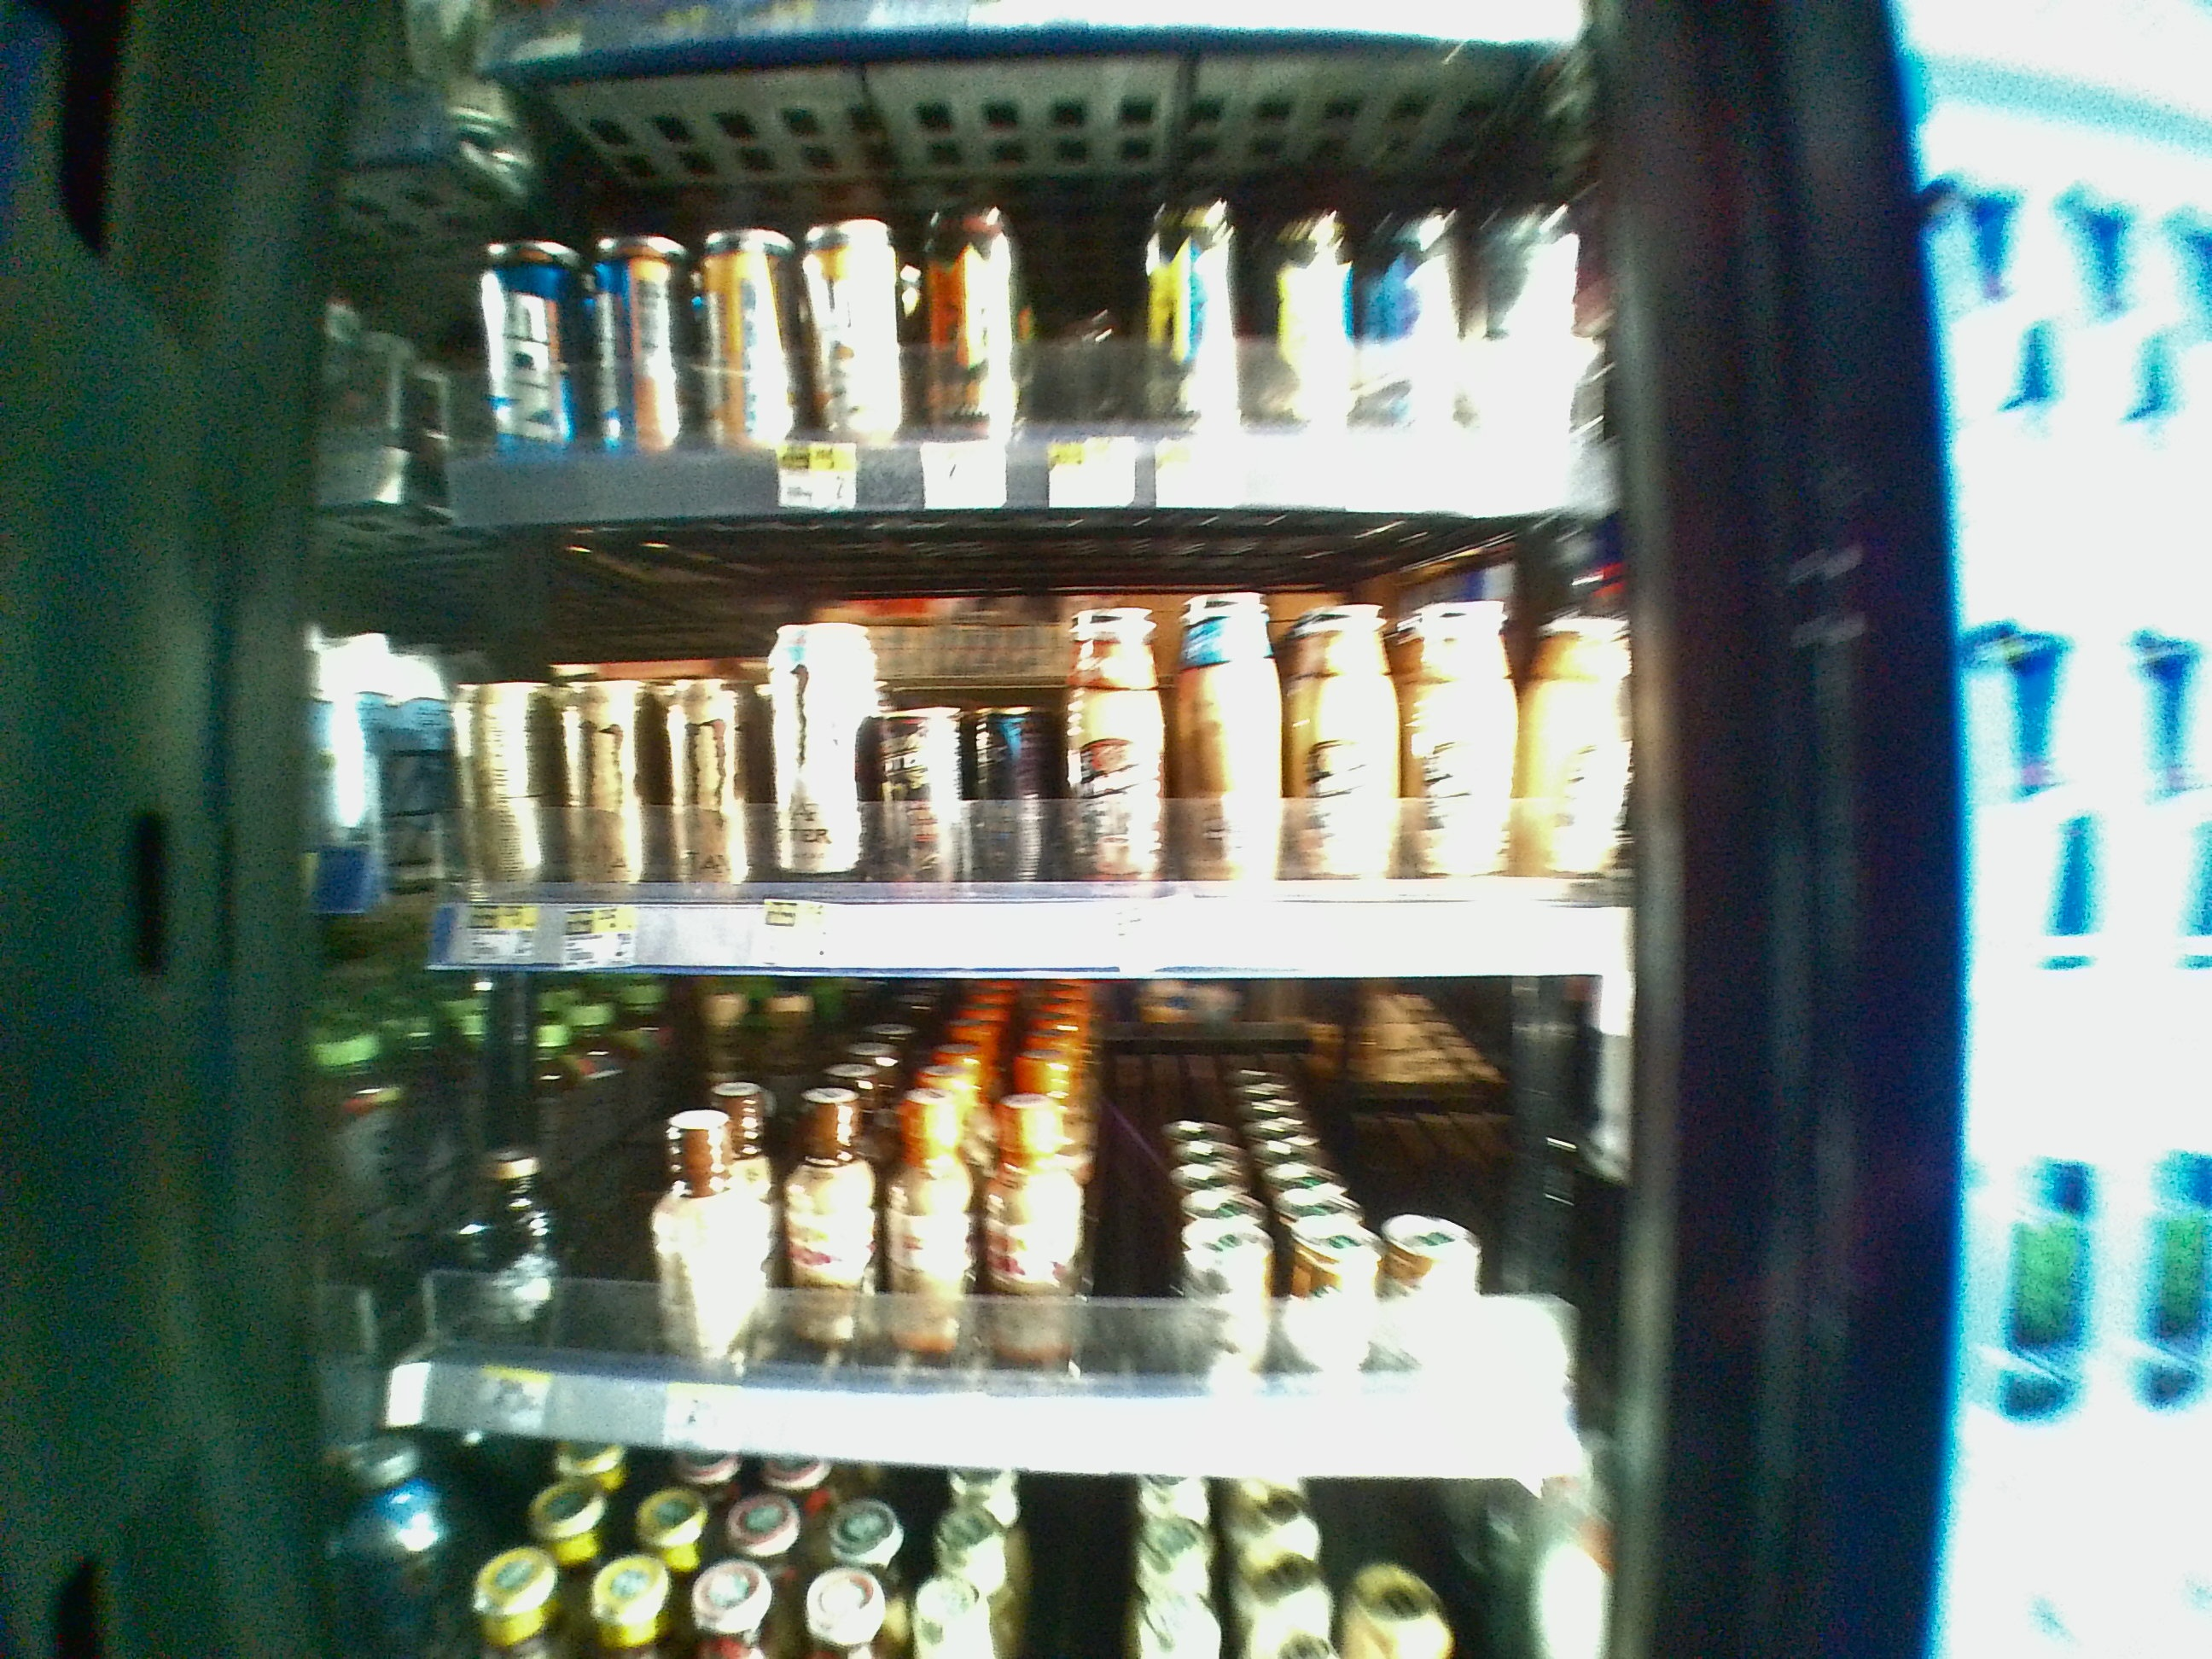shelf: (287, 976, 1662, 1459), (305, 507, 1655, 976)
